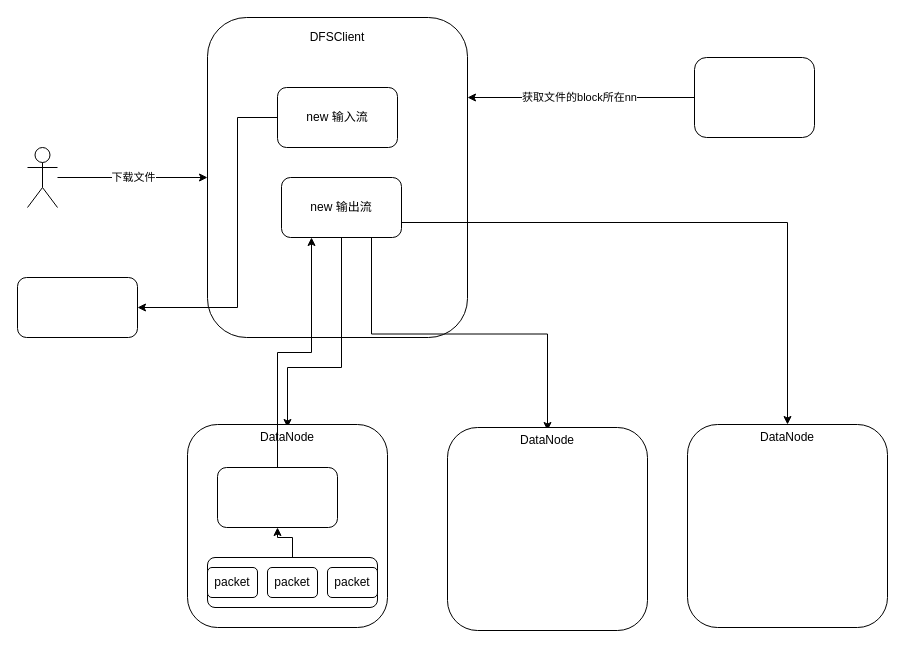
Some shapes in this 905 by 648 pixel diagram are drawn without their labels. The shapes that lost their labels are listed below. From the top down, each one's box as (x1, y1, x2, y2) in pixels, then its label:
(694, 56, 814, 138): NameNode
(26, 146, 58, 208): Actor
(16, 276, 138, 338): 本地文件
(216, 466, 338, 528): BlockSender
